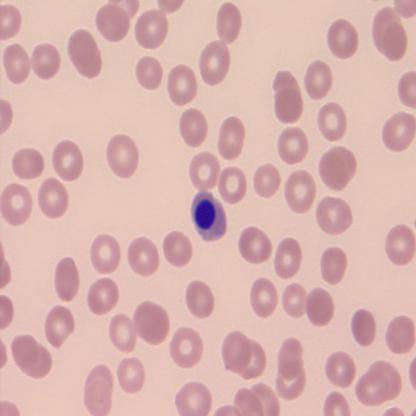NRC: (189, 188, 228, 243)
